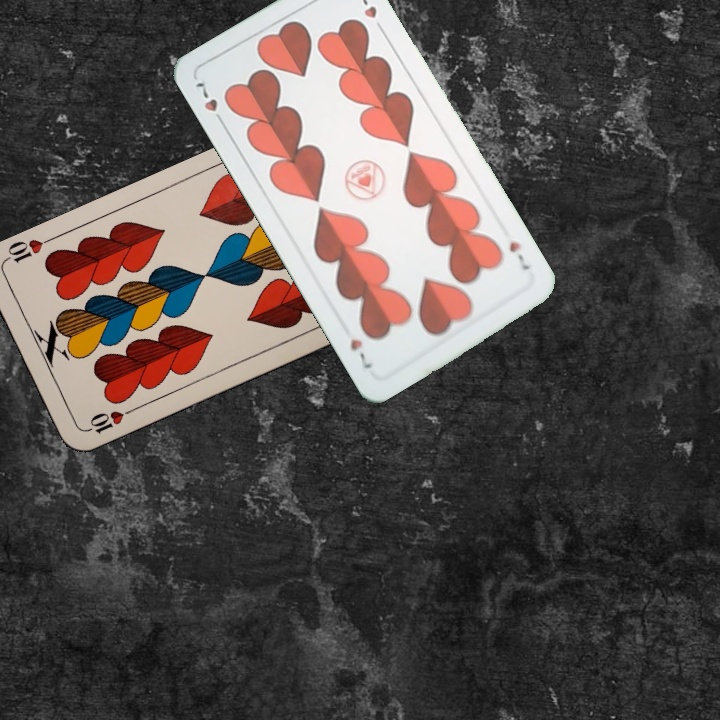H10: (79, 405, 135, 437)
H7: (191, 78, 228, 129), (505, 237, 532, 273)
